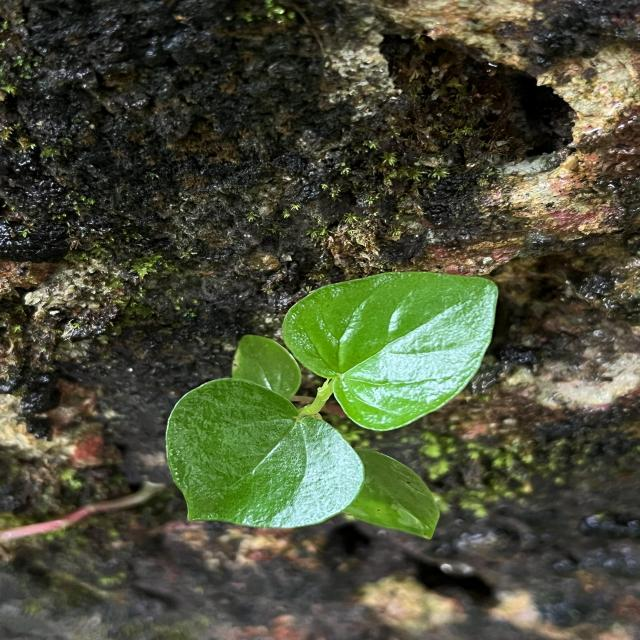Peperomia pellucida: (276, 267, 500, 437), (164, 376, 368, 532)
